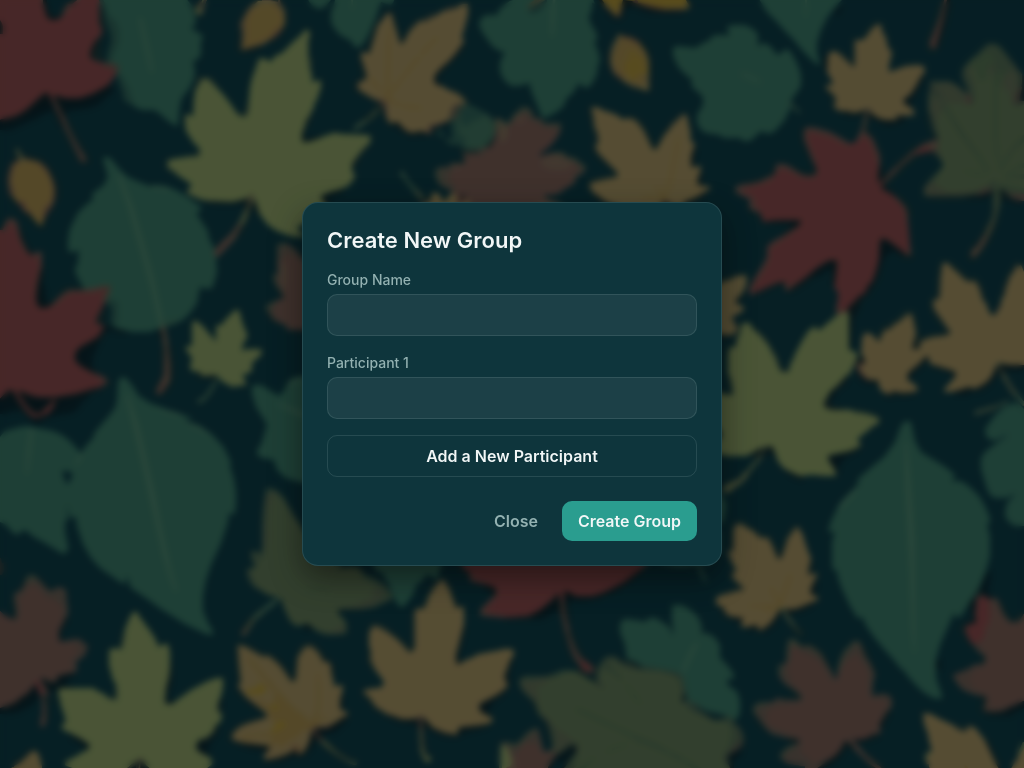
Test: GroupModal › shows an error and does not close when creation fails
Type "Trip" into the field labelled "Group Name" at point(512, 315), box [327, 294, 697, 336]
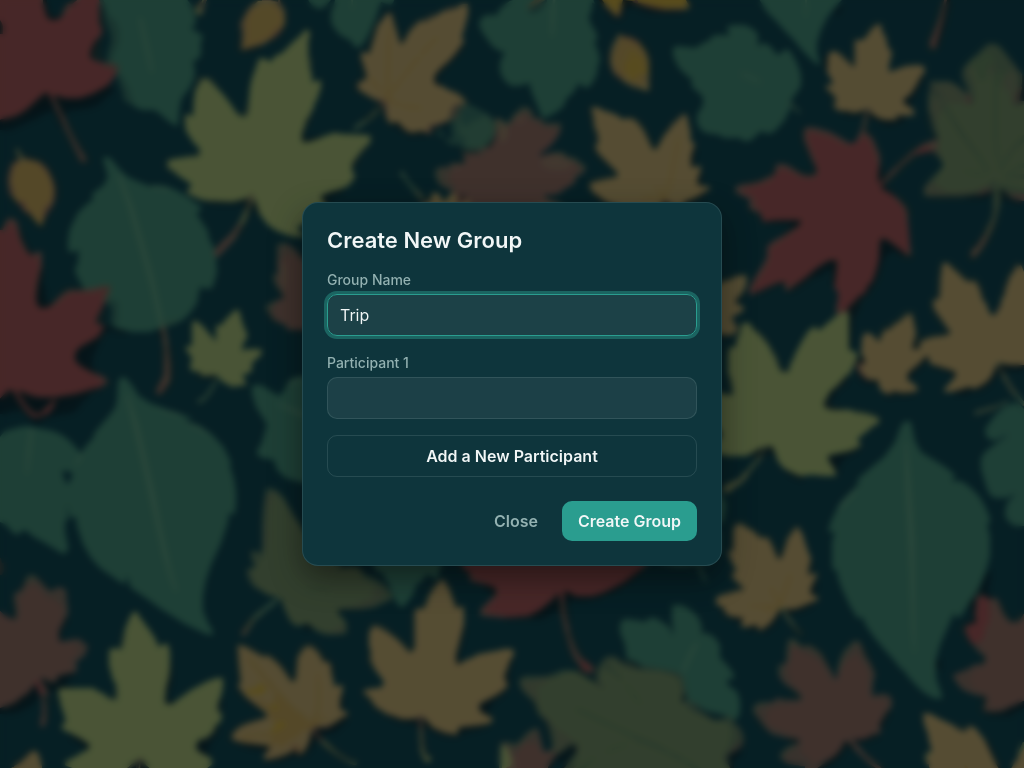
Type "Alice" into the field labelled "Participant 1" at point(512, 398), box [327, 377, 697, 419]
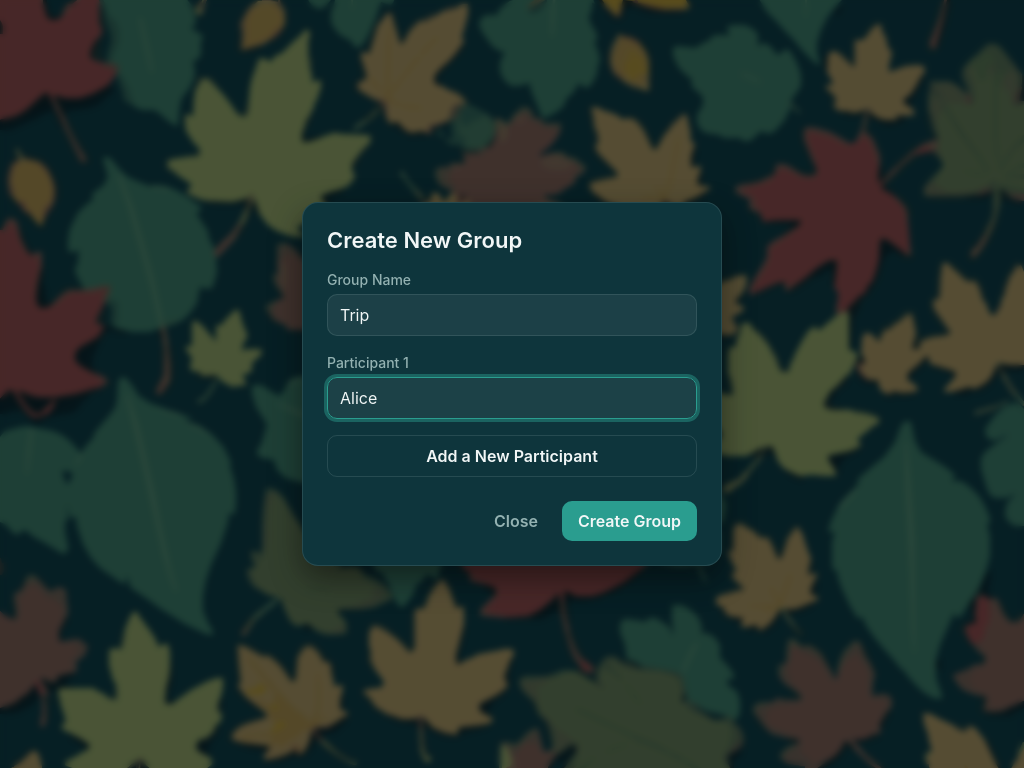
Click the button "Create Group" at point(629, 521), box [562, 501, 697, 541]
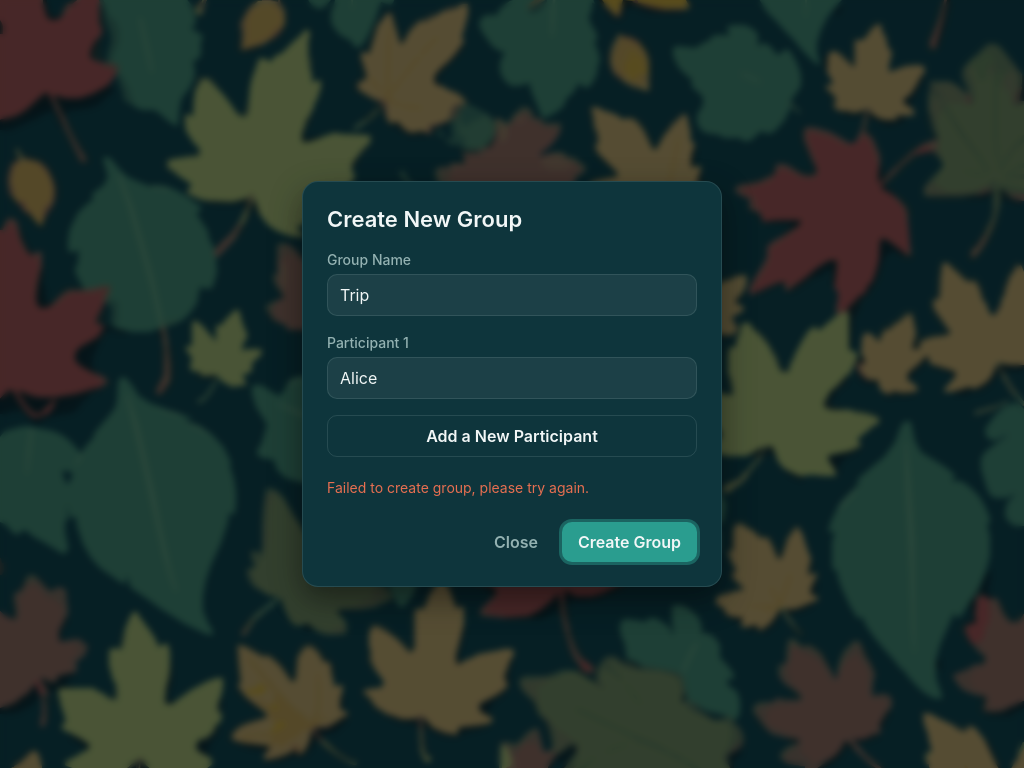
Result: the text "Failed to create group, please try again." is shown at [327, 479, 589, 496]
